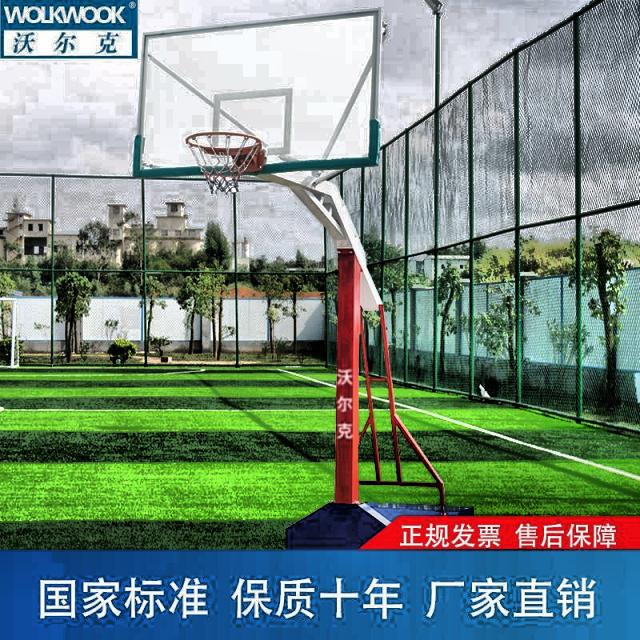rim: (186, 131, 261, 193)
